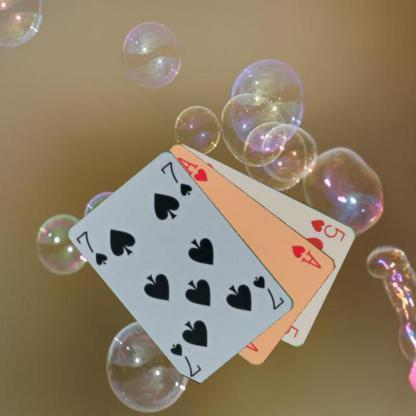5h: (308, 216, 347, 243)
7s: (250, 273, 286, 311), (74, 229, 110, 266)
Ah: (289, 242, 323, 270)
